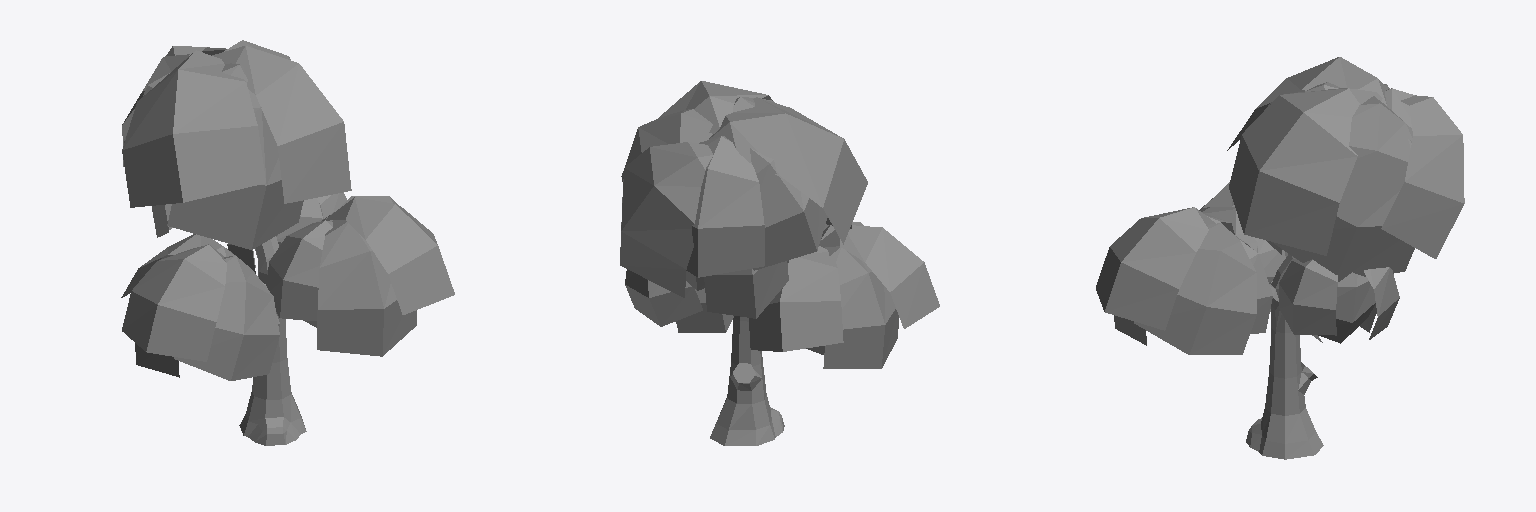
File: Tree02.obj
3 views of the same model, side by side, from view 1: azimuth 30°, elevation 25°; view 2: azimuth 150°, elevation 25°; view 3: azimuth 270°, elevation 25° (orthographic).
Visible parts, largest first — view 1: tree02; view 2: tree02; view 3: tree02.
Boxes of the visible parts, <box> form: tree02: <box>121,40,454,445</box>; tree02: <box>620,81,939,445</box>; tree02: <box>1096,57,1464,459</box>.
Bounding box in the file's own units: 3455 × 4196 × 3913.